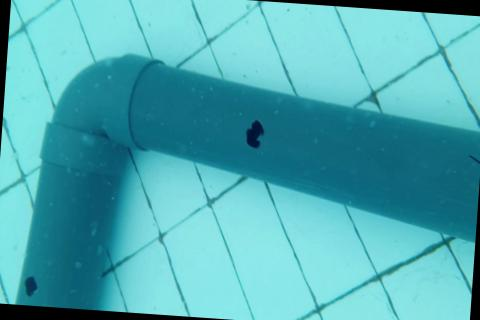kebocoran: (242, 117, 264, 151), (22, 274, 38, 297)
keretakan: (465, 153, 480, 182)
